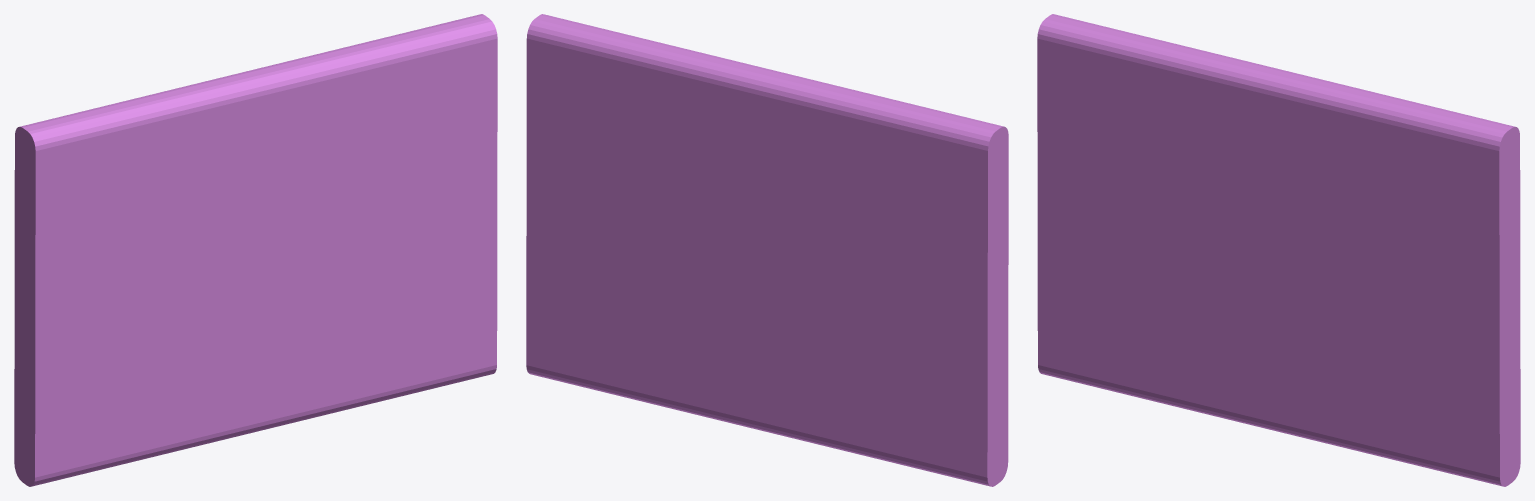
File: platform03.fbx
3 renders of one model, left to right at view 1: azimuth 30°, elevation 25°; view 2: azimuth 150°, elevation 25°; view 3: azimuth 330°, elevation 25°, orthographic.
Parts seen in each view (by area): view 1: platform03; view 2: platform03; view 3: platform03.
Part boxes in pixels (x1,y1,x2,y2): platform03: (14,14,497,486); platform03: (526,14,1008,486); platform03: (1037,14,1520,486).
Bounding box in the file's own units: 131 × 95.79 × 10.43.
